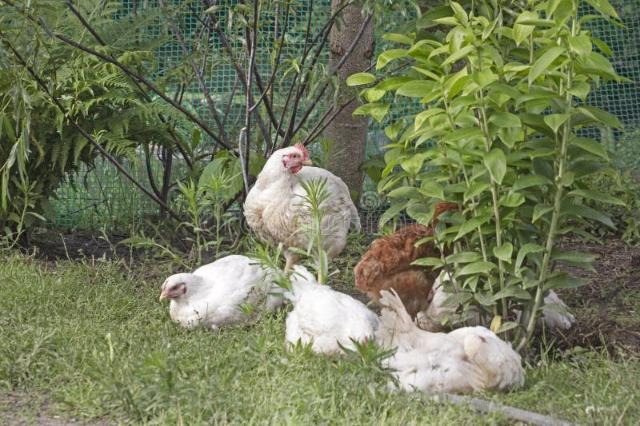Chicken: (244, 141, 361, 283), (378, 288, 524, 396), (356, 202, 464, 307), (159, 254, 287, 329), (286, 264, 382, 356)
